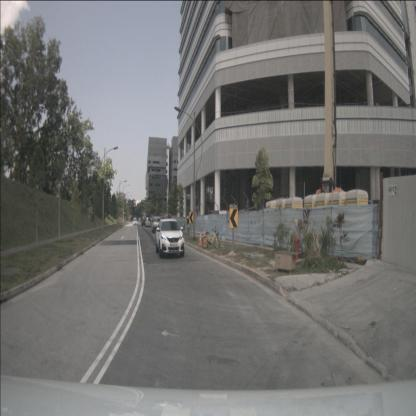movable_object-trafficcone: (198, 231, 203, 246), (202, 228, 206, 244)
vehicle-bicycle: (202, 226, 220, 249)
vehicle-car: (155, 219, 185, 258), (151, 216, 163, 233), (145, 218, 151, 228), (133, 218, 138, 226)
vehicle-truck: (141, 213, 148, 226)
